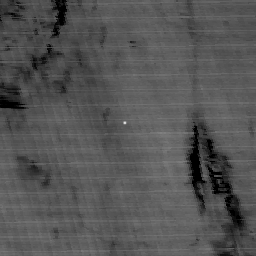Target: (121, 119, 128, 126)
